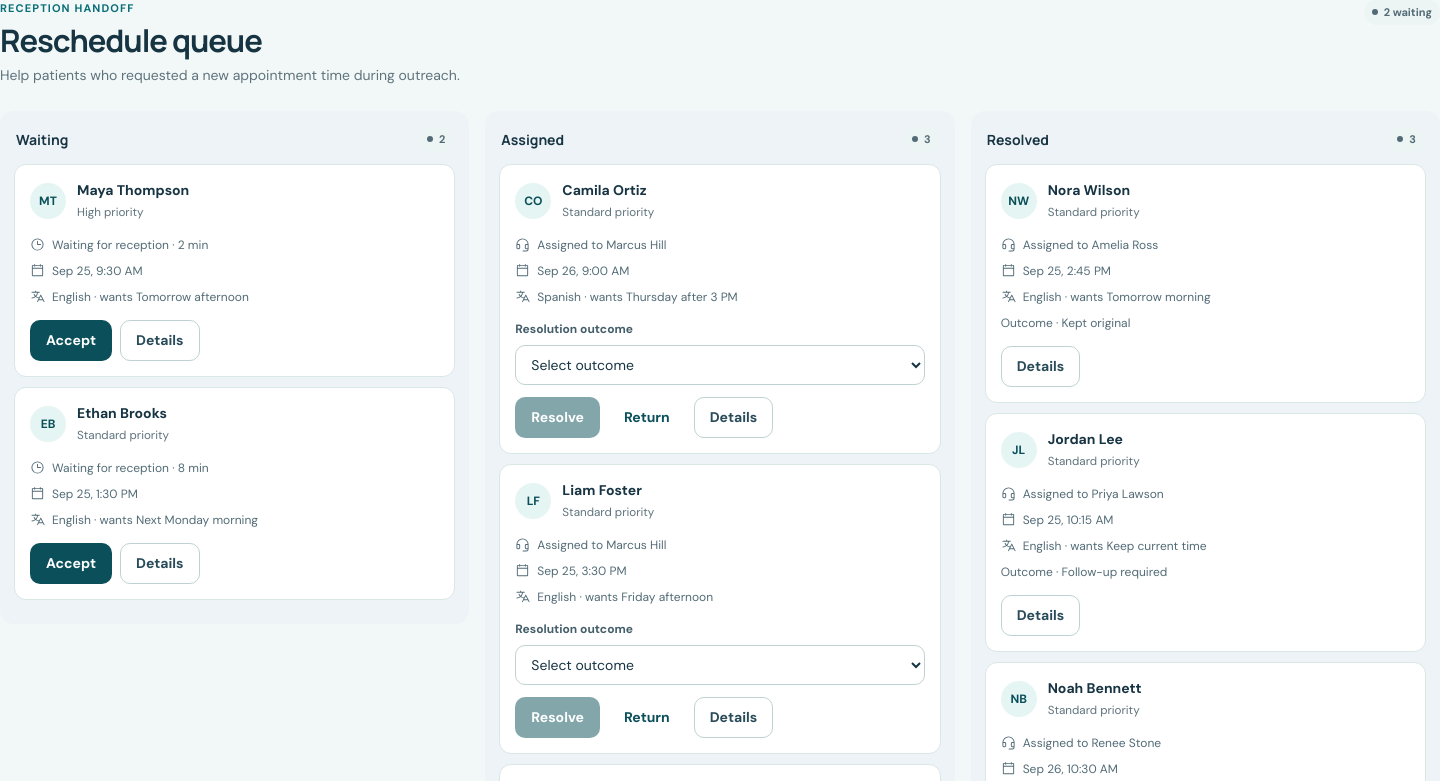
Test: ReschedulePage › assigns a waiting patient to the current receptionist
This screenshot has width=1440, height=781.
Click the button with aria-label "Accept Maya Thompson": (71, 340) x1=30 y1=320 x2=112 y2=361
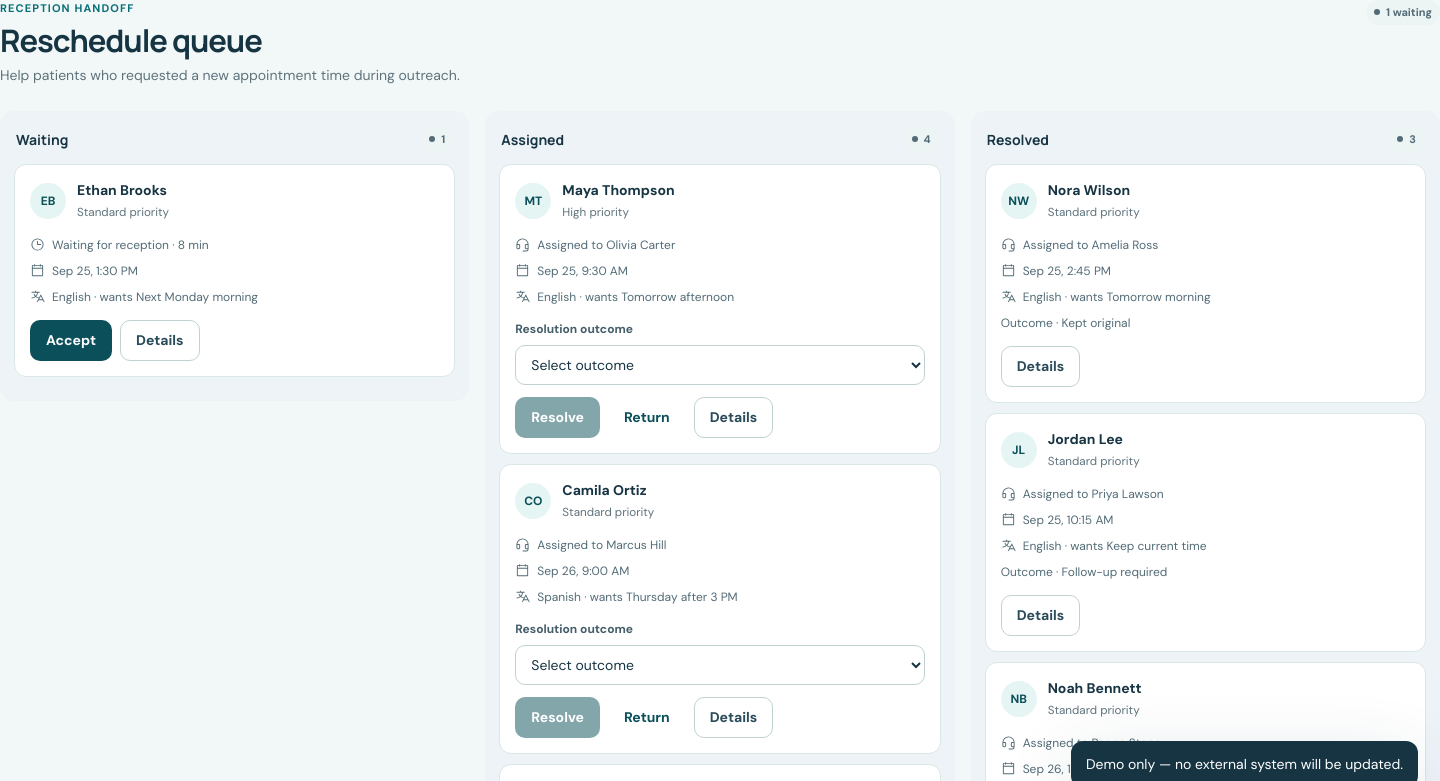
Result: the text "Assigned to Olivia Carter" is shown at x1=515 y1=237 x2=675 y2=253
